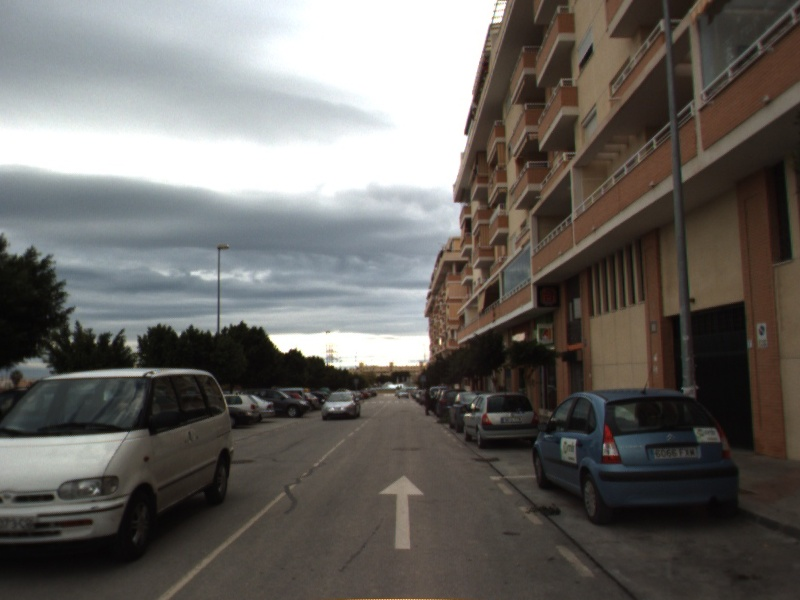STRAIGHT: (377, 473, 427, 550)
